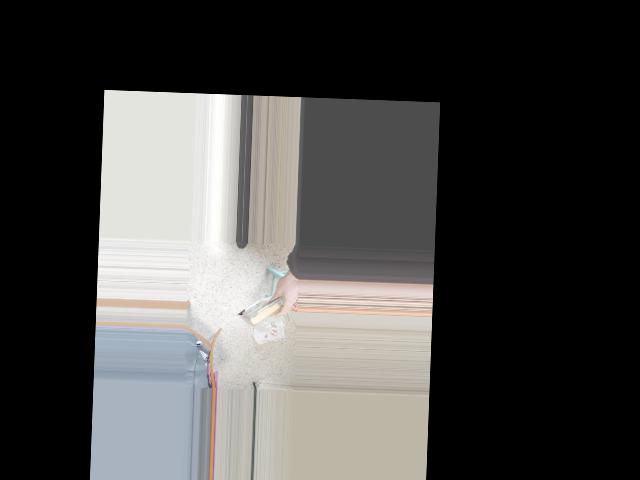cheese: (236, 290, 295, 329)
